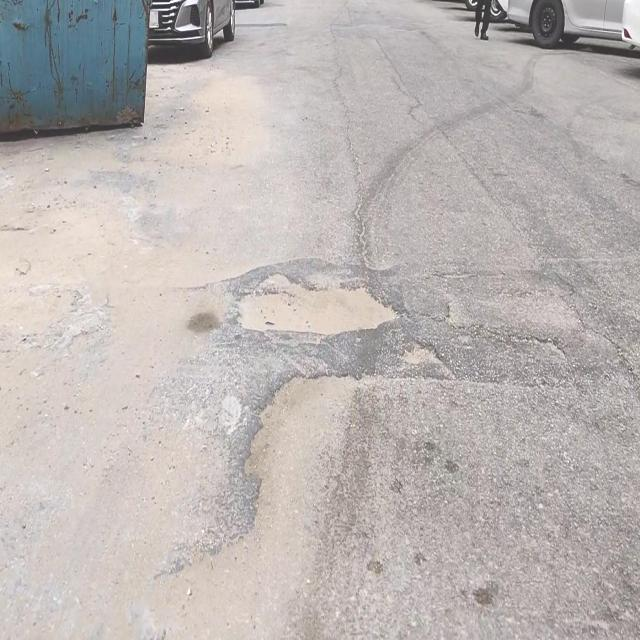Potholes: (237, 267, 402, 334)
